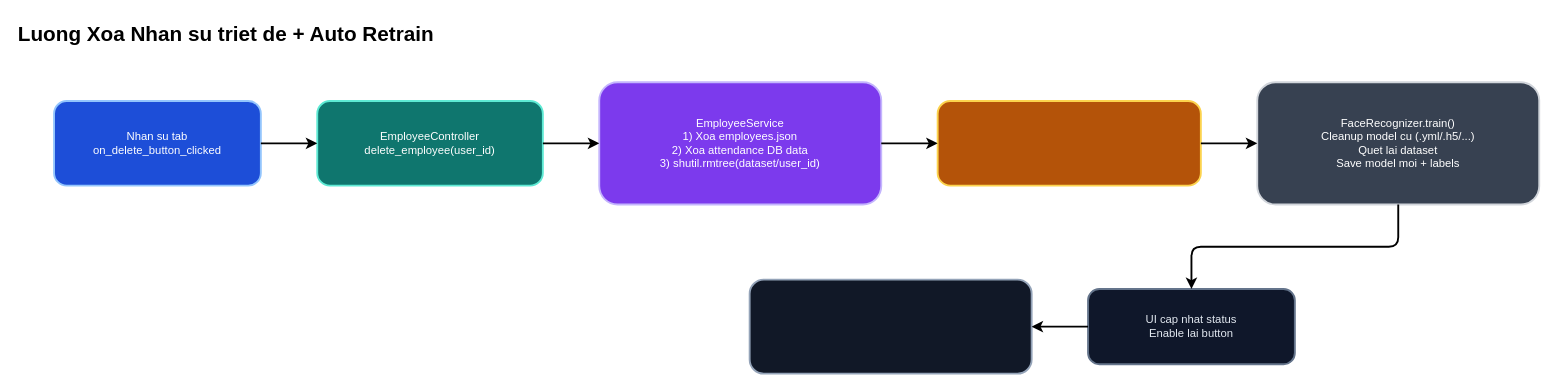
This 1556x390 diagram has some shape labels left out. The shapes that lost their labels are listed below. From the top down, each one's box as (x1, y1, x2, y2) in pixels, then its label:
(936, 100, 1201, 186): train_model_async() Khoi tao QThread + RetrainWorker
(748, 278, 1032, 374): Signals - dataset_updated - reload Employee tab - refresh Dashboard
